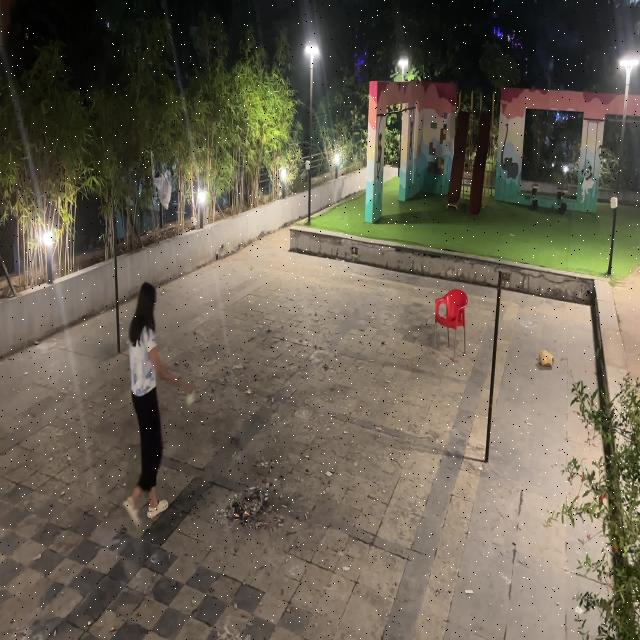human: (108, 282, 198, 529)
trash: (225, 473, 277, 534), (182, 372, 200, 412)
